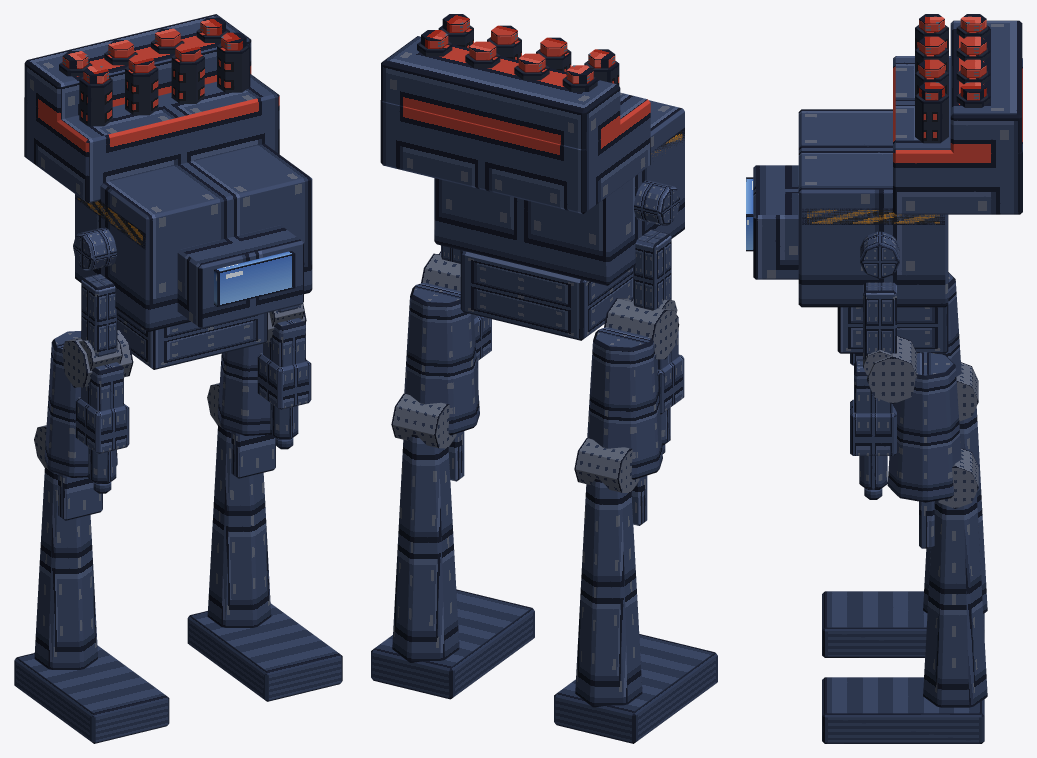
The model's file is mech_deployer.glb.
3 views of the same model, side by side, from view 1: azimuth 30°, elevation 25°; view 2: azimuth 150°, elevation 25°; view 3: azimuth 270°, elevation 25° (orthographic). The views are drawn at different scales.
Parts seen in each view (by area): view 1: Torso-head, L_shin, R_shin, R_foot, L_foot, art_tubes, L_forearm, R_forearm, root_Pelvis, R_thigh, L_thigh, art_tips (+6 smaller); view 2: Torso-head, R_shin, L_shin, root_Pelvis, R_thigh, L_thigh, R_foot, L_foot, art_tips, art_tubes, R_upper_arm, R_pelvis_thigh (+6 smaller); view 3: Torso-head, L_shin, L_foot, L_thigh, R_foot, L_forearm, art_tubes, art_tips, root_Pelvis, L_upper_arm, L_pelvis_thigh, art_stripe (+6 smaller).
Boxes of the visible parts, <box> form: Torso-head: <box>24,14,312,331</box>; L_shin: <box>207,426,275,627</box>; R_shin: <box>34,469,102,669</box>; R_foot: <box>14,645,169,743</box>; L_foot: <box>187,603,342,701</box>; art_tubes: <box>59,28,250,126</box>; L_forearm: <box>257,318,311,449</box>; R_forearm: <box>75,362,129,493</box>; root_Pelvis: <box>117,310,267,369</box>; R_thigh: <box>44,331,117,477</box>; L_thigh: <box>217,343,270,435</box>; art_tips: <box>62,17,246,84</box>; Torso-head: <box>380,36,684,285</box>; R_shin: <box>575,475,647,707</box>; L_shin: <box>392,431,464,662</box>; root_Pelvis: <box>460,251,633,340</box>; R_thigh: <box>587,327,662,479</box>; L_thigh: <box>404,282,479,435</box>; R_foot: <box>554,634,717,743</box>; L_foot: <box>371,589,534,699</box>; art_tips: <box>421,14,615,84</box>; art_tubes: <box>417,25,619,91</box>; R_upper_arm: <box>633,229,671,310</box>; R_pelvis_thigh: <box>604,298,679,359</box>; Torso-head: <box>753,20,1022,307</box>; L_shin: <box>919,493,987,707</box>; L_foot: <box>822,677,984,743</box>; L_thigh: <box>887,352,961,502</box>; R_foot: <box>822,591,984,657</box>; L_forearm: <box>850,361,896,499</box>; art_tubes: <box>915,25,990,143</box>; art_tips: <box>919,14,986,100</box>; root_Pelvis: <box>837,305,948,353</box>; L_upper_arm: <box>863,282,896,359</box>; L_pelvis_thigh: <box>867,335,917,403</box>; art_stripe: <box>802,208,944,224</box>.
Bounding box in the file's own units: 13.56 × 32.11 × 12.78.
1 material, 1 textured.
